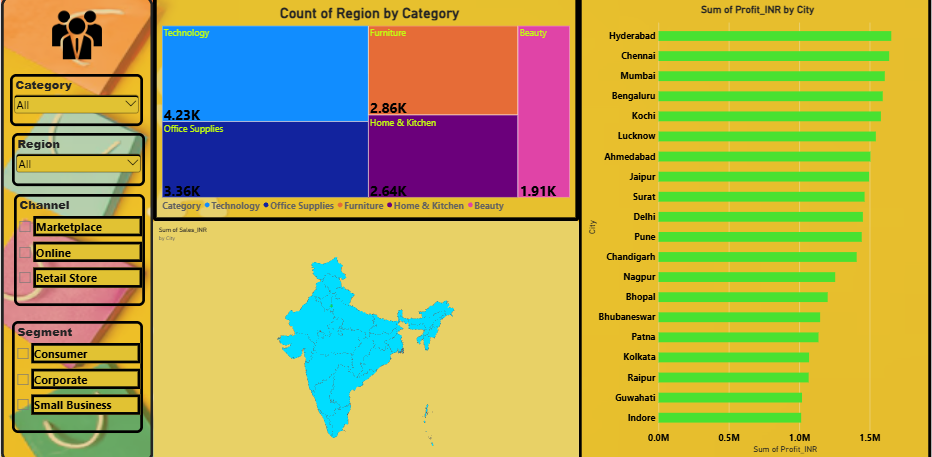

Layout of this report page (visuals, bound fields, positions):
{"tool":"powerbi","page":{"name":"44 GEOGRAPHICAL ANALYSIS","canvas":[2748,1378],"ordinal":4},"visuals":[{"type":"textbox","box":[10,0,280,280],"z":0},{"type":"shapeMap","fields":{"Category":["sales_data.City"],"Series":["sales_data.Sales_INR"]},"box":[363.4,0,1365.1,715.1],"z":1},{"type":"shape","box":[11.1,0,352.3,1378.8],"z":2},{"type":"barChart","fields":{"Category":["sales_data.City"],"Y":["Sum(sales_data.Profit_INR)"]},"box":[1707.9,0,1040.1,1377],"z":3},{"type":"treemap","fields":{"Group":["sales_data.Category","sales_data.Subcategory"],"Values":["CountNonNull(sales_data.Region)"]},"box":[363.4,715.1,1344.5,664.8],"z":4}]}

Visuals, with their boxes in screenshot pixels (x1, y1, x2, y2), scaled from the page's 2748x1378 canvas onto the 932x457 screenshot:
textbox: (3,0,98,93)
shapeMap - sales_data.City x sales_data.Sales_INR: (123,0,586,237)
shape: (4,0,123,456)
barChart - sales_data.City x Sum(sales_data.Profit_INR): (579,0,931,456)
treemap - sales_data.Category x sales_data.Subcategory: (123,237,579,456)
